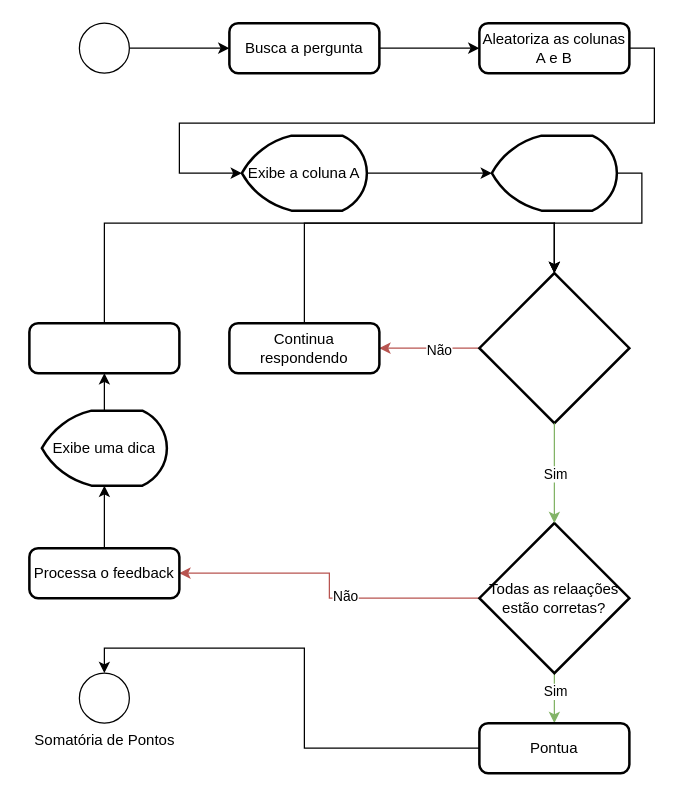
The diagram is 686 pixels wide and 795 high, and some of its shapes have lost their labels. The centre of each missing label's shape, as x and y in pixels:
"Entregar resposta?" belongs at pixel 554 347.
"Exibe a coluna B" belongs at pixel 554 172.
"Moto de Jogo (Associação de Colunas)" belongs at pixel 103 47.
"Processa nova tentativa do jogador" belongs at pixel 104 347.
